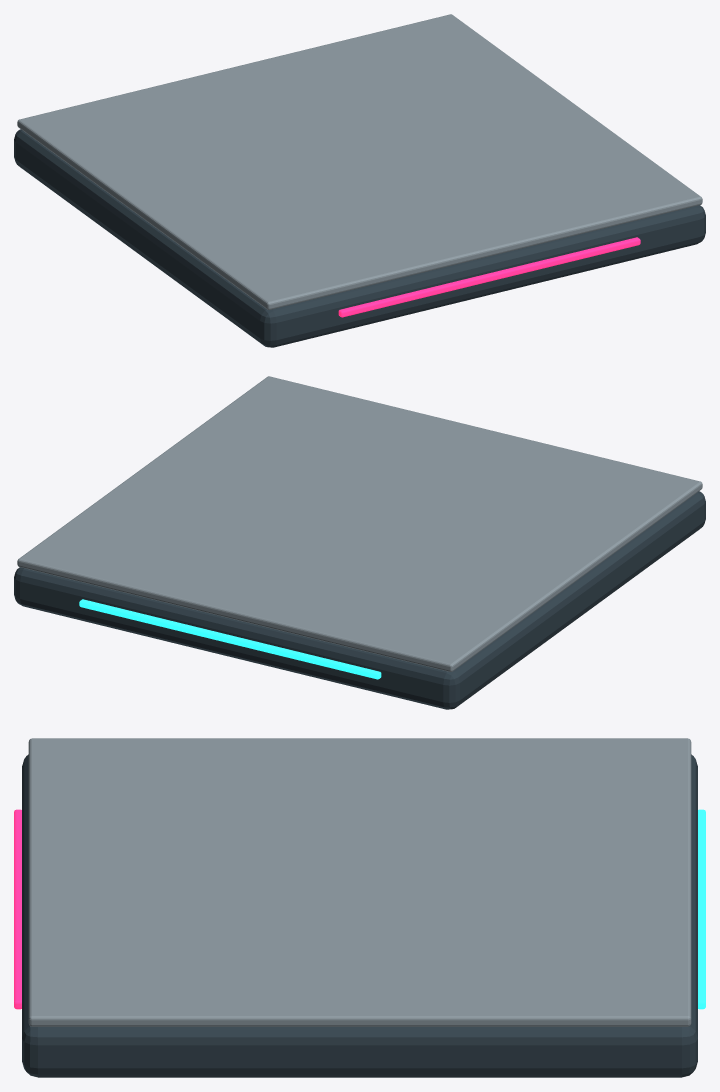
File: rooftop-platform.glb
The picture shows the model from 3 angles, top to bottom: view 1: azimuth 30°, elevation 25°; view 2: azimuth 150°, elevation 25°; view 3: azimuth 270°, elevation 25°; orthographic projection. The views are drawn at different scales.
Parts seen in each view (by area): view 1: rooftop_platform_surface_01, rooftop_platform_surface_00, rooftop_platform_surface_03; view 2: rooftop_platform_surface_01, rooftop_platform_surface_00, rooftop_platform_surface_04; view 3: rooftop_platform_surface_01, rooftop_platform_surface_00, rooftop_platform_surface_03, rooftop_platform_surface_04.
Boxes of the visible parts, x1,y1,x2,y2 form: rooftop_platform_surface_01: (17, 14, 702, 309); rooftop_platform_surface_00: (14, 129, 705, 347); rooftop_platform_surface_03: (338, 237, 640, 317); rooftop_platform_surface_01: (17, 376, 702, 671); rooftop_platform_surface_00: (14, 491, 705, 709); rooftop_platform_surface_04: (79, 599, 381, 679); rooftop_platform_surface_01: (28, 738, 691, 1026); rooftop_platform_surface_00: (22, 754, 697, 1077); rooftop_platform_surface_03: (14, 809, 21, 1009); rooftop_platform_surface_04: (698, 809, 705, 1009).
Size of the model in its own units: 4 by 0.5599 by 4.1.
